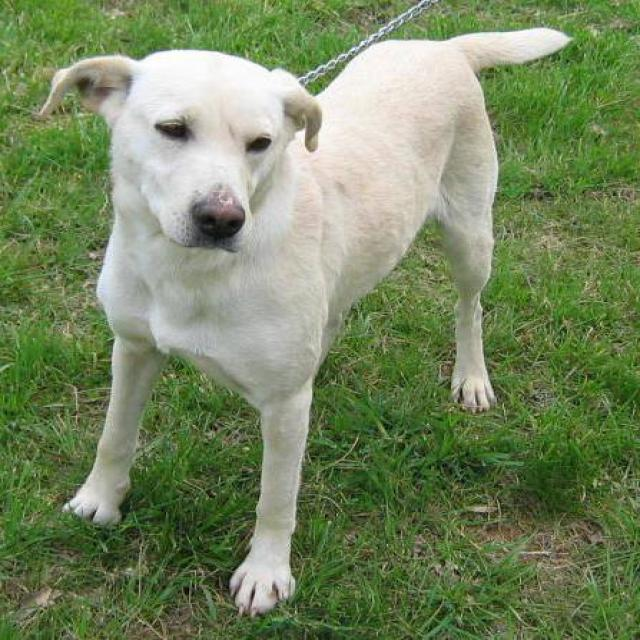dog: (33, 25, 574, 620)
